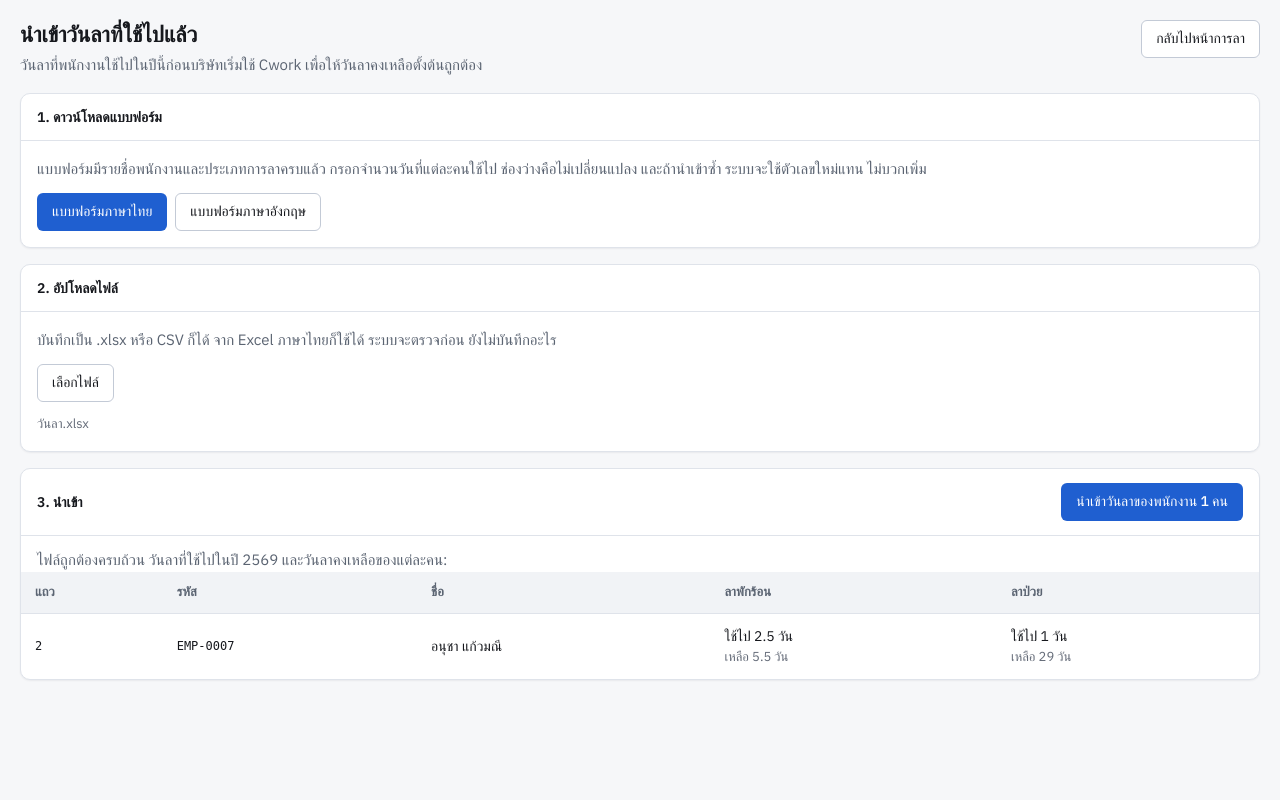
Test: Importing leave taken before Cwork (CW-059) › shows the days taken and what each person is left with, then imports
This screenshot has width=1280, height=800.
Earlier steps of the test are not shown.
Expected: the column heading "ลาพักร้อน" is shown, [710,572,997,613]
Expected: the text "ใช้ไป 2.5 วัน" is shown, [724,627,793,645]
Click the button "นำเข้าวันลาของพนักงาน 1 คน": (1152, 502) [1061,483,1243,521]
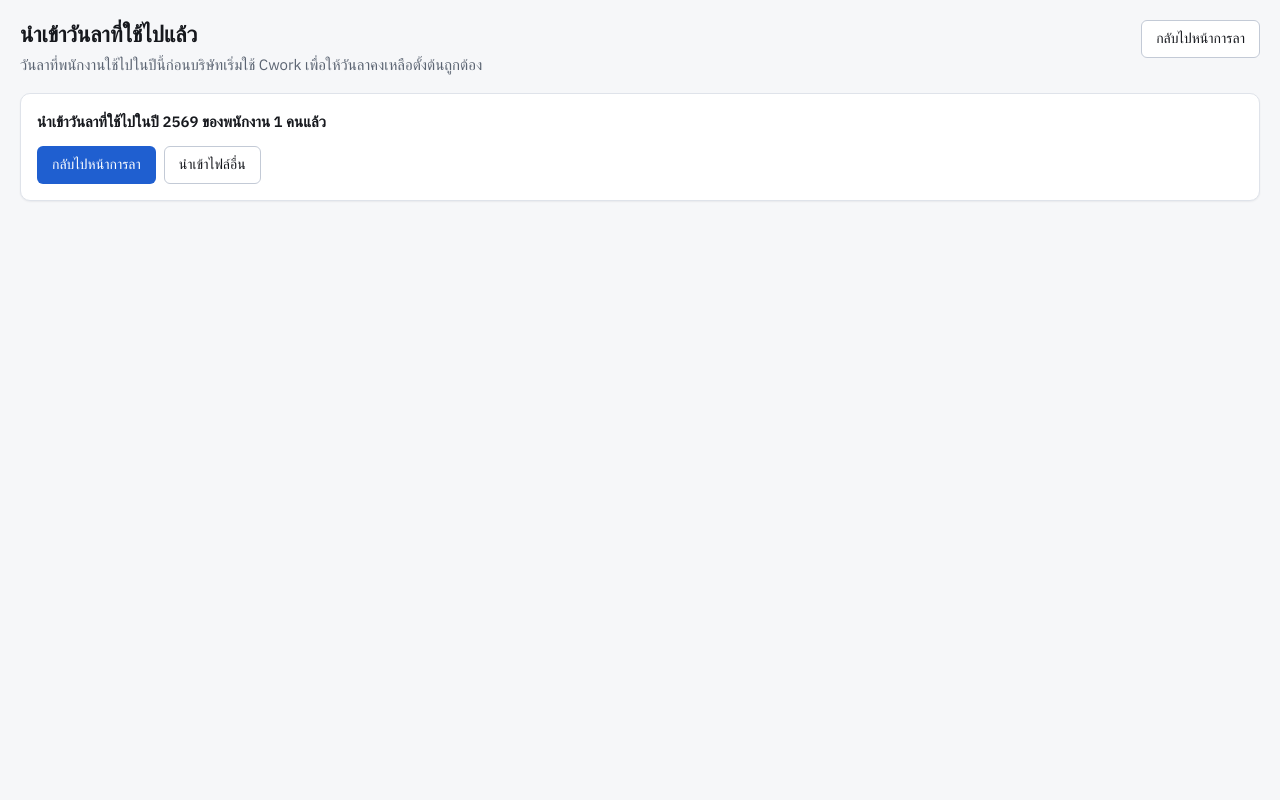
Expected: the text "นำเข้าวันลาที่ใช้ไปในปี 2569 ของพนักงาน 1 คนแล้ว" is shown, [37,112,326,131]
